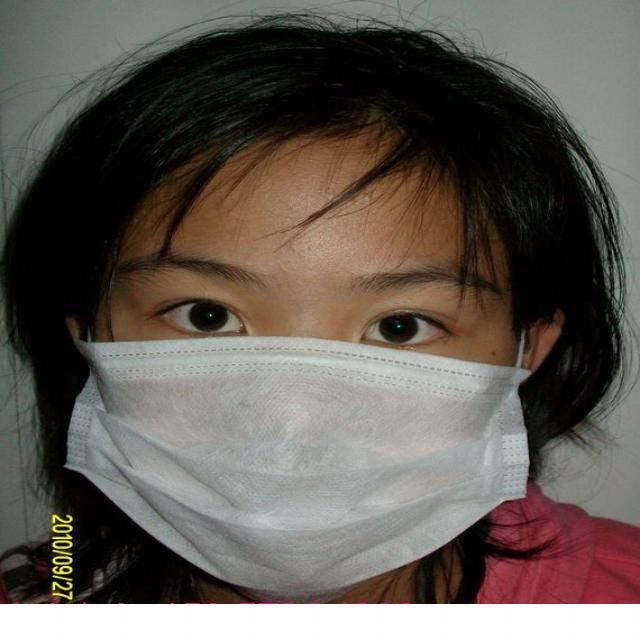mask: (94, 147, 506, 598)
